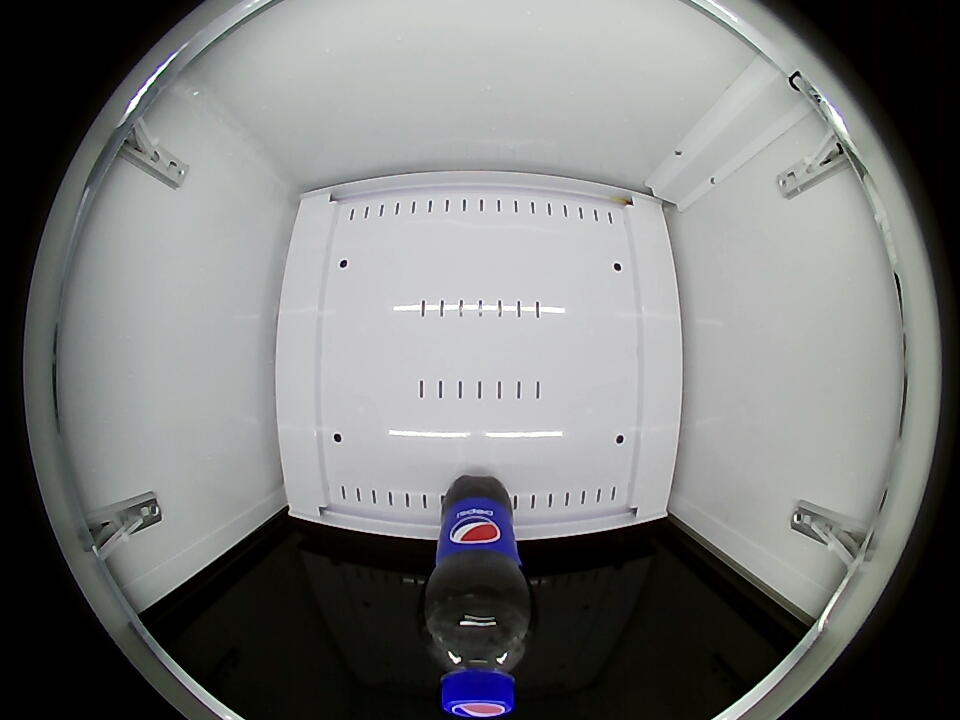baishikele-2: (424, 593, 530, 718)
